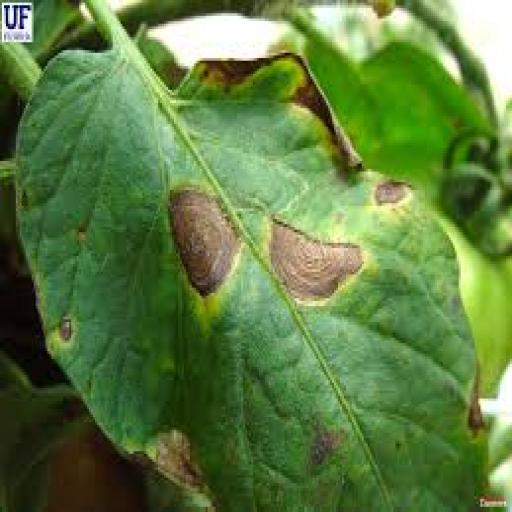disease_tomato: (11, 30, 491, 512)
